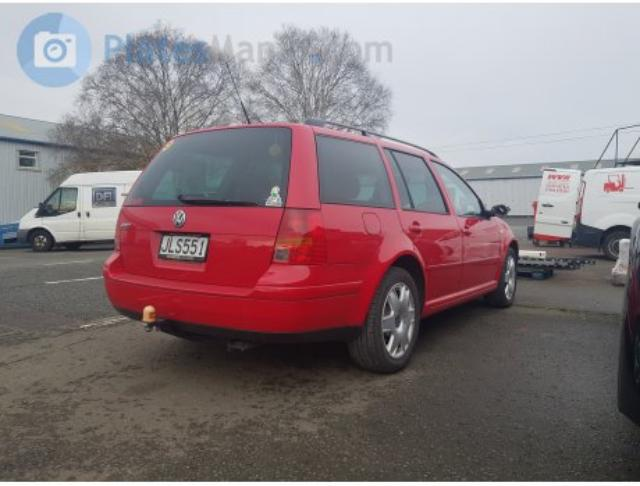Rego: (158, 233, 211, 262)
